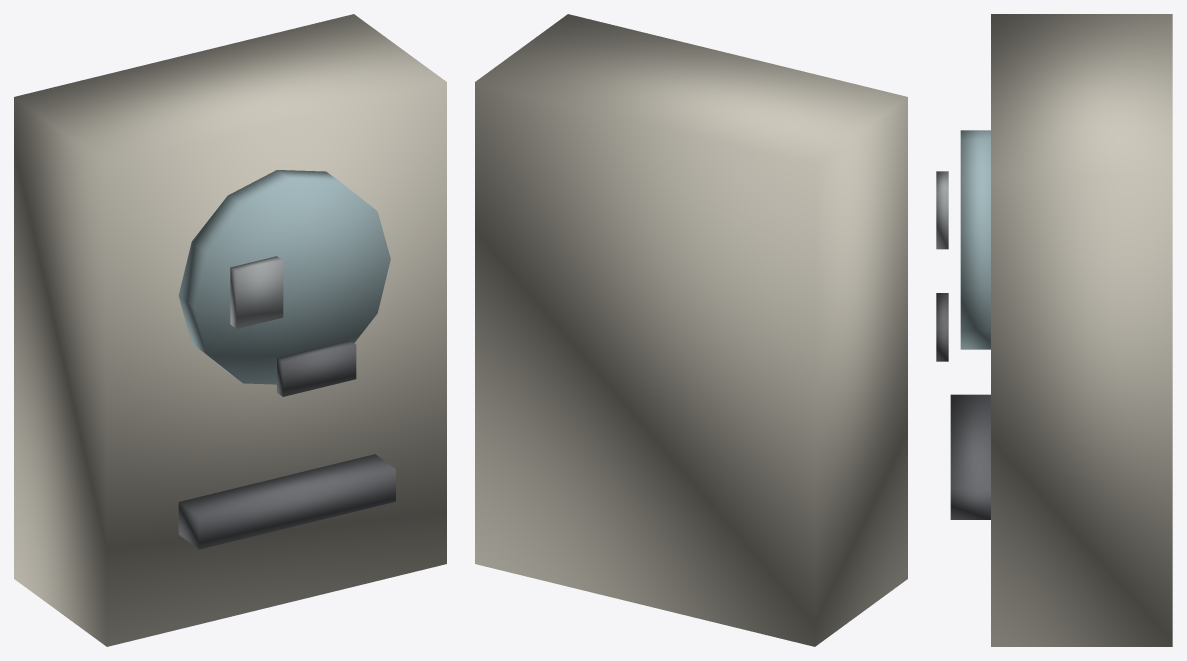
The model's file is timecard_rack__weathered.glb.
3 renders of one model, left to right at view 1: azimuth 30°, elevation 25°; view 2: azimuth 150°, elevation 25°; view 3: azimuth 270°, elevation 25°, orthographic. The views are drawn at different scales.
Parts seen in each view (by area): view 1: world; view 2: world; view 3: world.
Part boxes in pixels (<box>): world: <box>14,14,446,646</box>; world: <box>475,14,907,646</box>; world: <box>936,14,1172,646</box>.
Bounding box in the file's own units: 0.38 × 0.5148 × 0.234.
